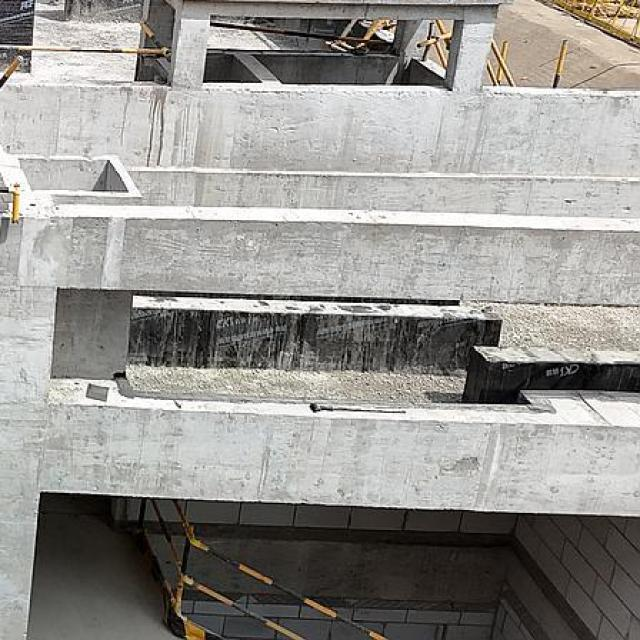edge_guardrail: (0, 21, 171, 58), (0, 181, 21, 224), (0, 54, 23, 92)
